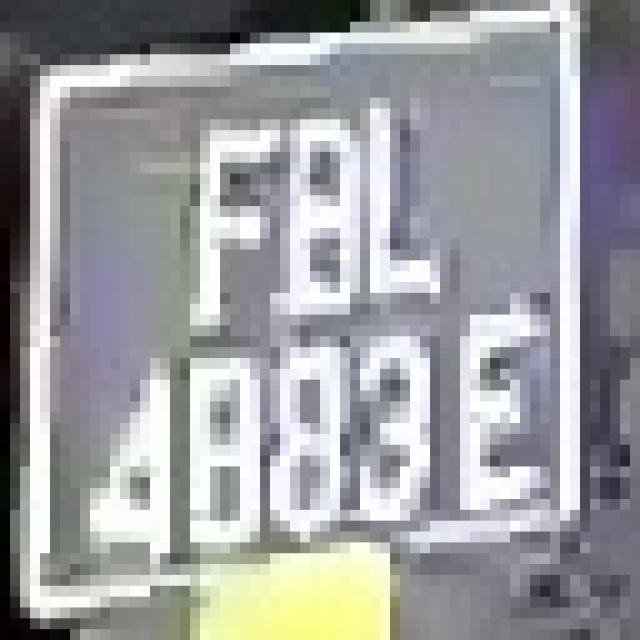3: (320, 326, 430, 532)
4: (70, 336, 180, 586)
8: (240, 325, 360, 575), (170, 325, 270, 564)
B: (270, 119, 360, 347)
E: (430, 293, 560, 542)
F: (170, 98, 270, 358)
L: (350, 98, 470, 314)
